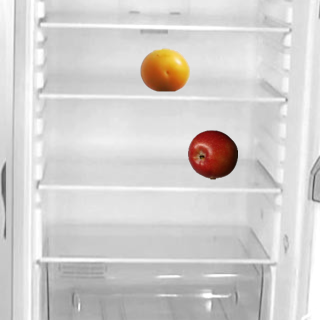Apple Braeburn: (187, 129, 237, 179)
Cherry Wax Yellow: (139, 44, 189, 94)
